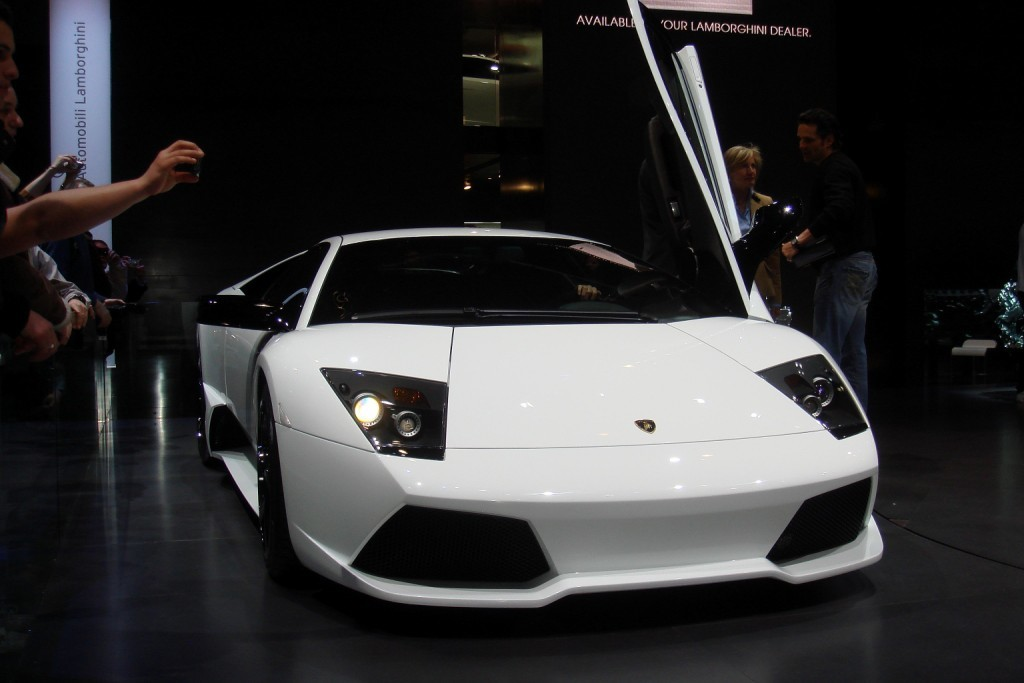Person: (0, 12, 204, 381), (766, 105, 898, 422), (727, 147, 786, 302)
